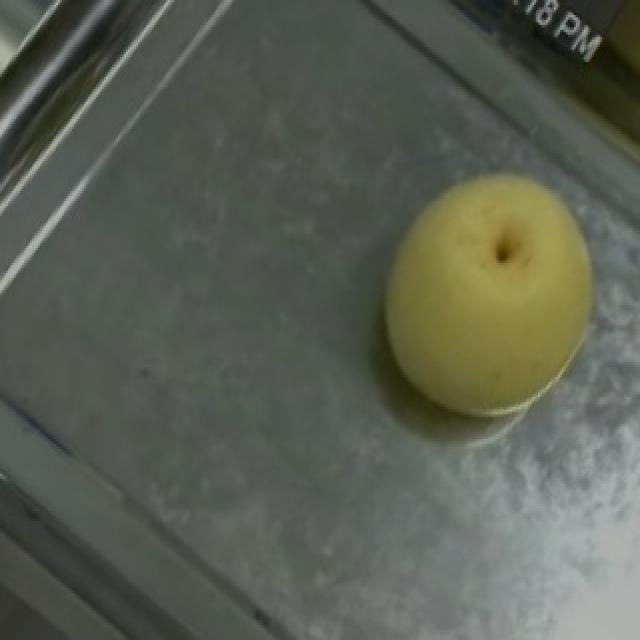Fruit: (334, 127, 640, 449)
